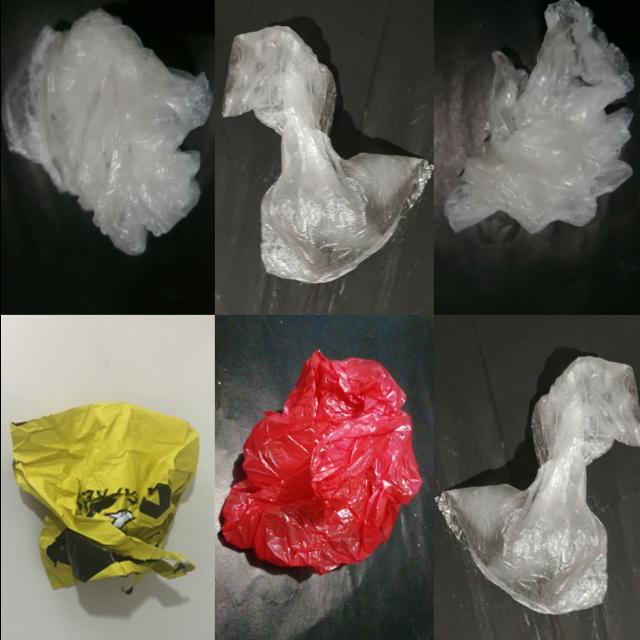plastik: (221, 26, 431, 283), (436, 356, 640, 615), (2, 9, 212, 255), (221, 351, 421, 575), (444, 0, 633, 233), (11, 403, 198, 589)
